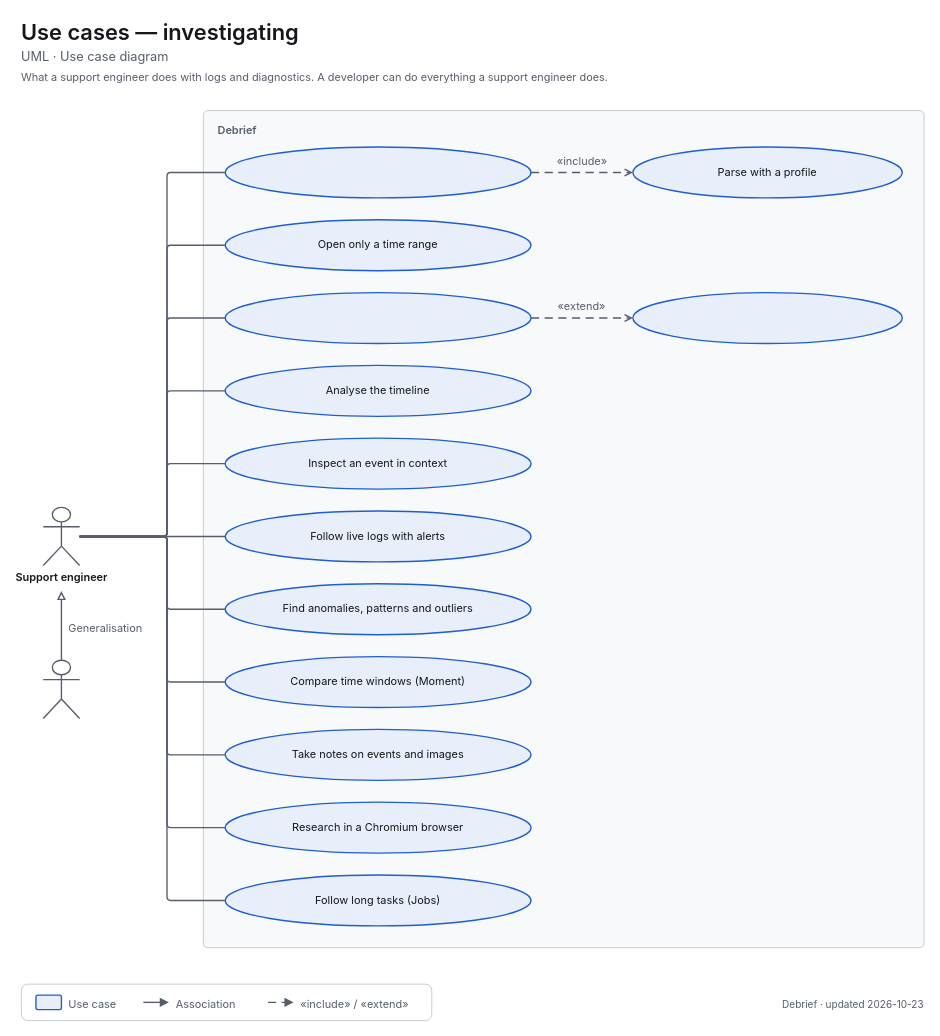
The diagram is 940 pixels wide and 1036 high, and some of its shapes have lost their labels. Each missing label, with the box of its shape:
Developer: (42, 659, 80, 719)
Filter and query: (224, 291, 531, 344)
Open logs, folders and archives: (224, 146, 531, 198)
Use a lens or filter set: (632, 291, 903, 344)
